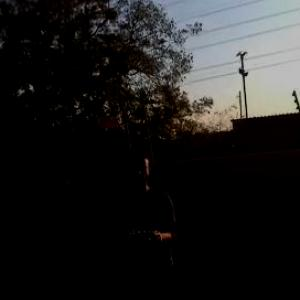follow: (106, 140, 185, 299)
